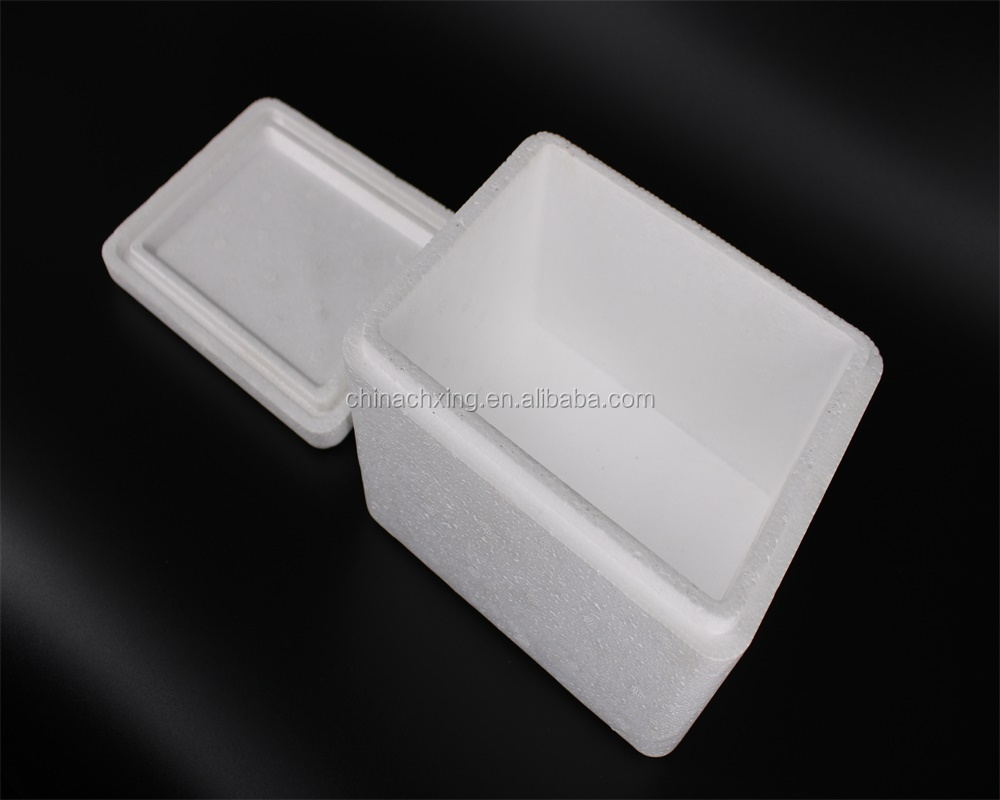Boxes: (103, 100, 882, 754)
